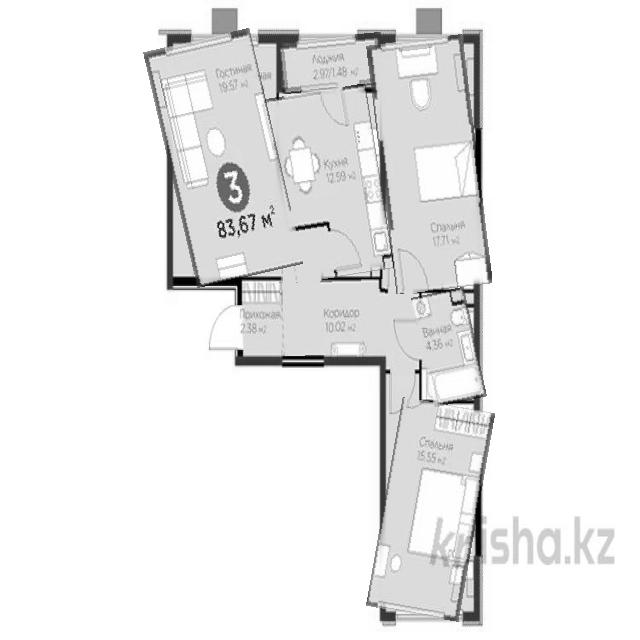balcony: (279, 34, 385, 92)
bathroom: (416, 289, 482, 405)
hallway: (280, 280, 386, 355), (241, 275, 283, 359)
kitchen: (272, 87, 388, 280)
living_room: (156, 33, 291, 283), (374, 37, 485, 292), (375, 401, 487, 619)
